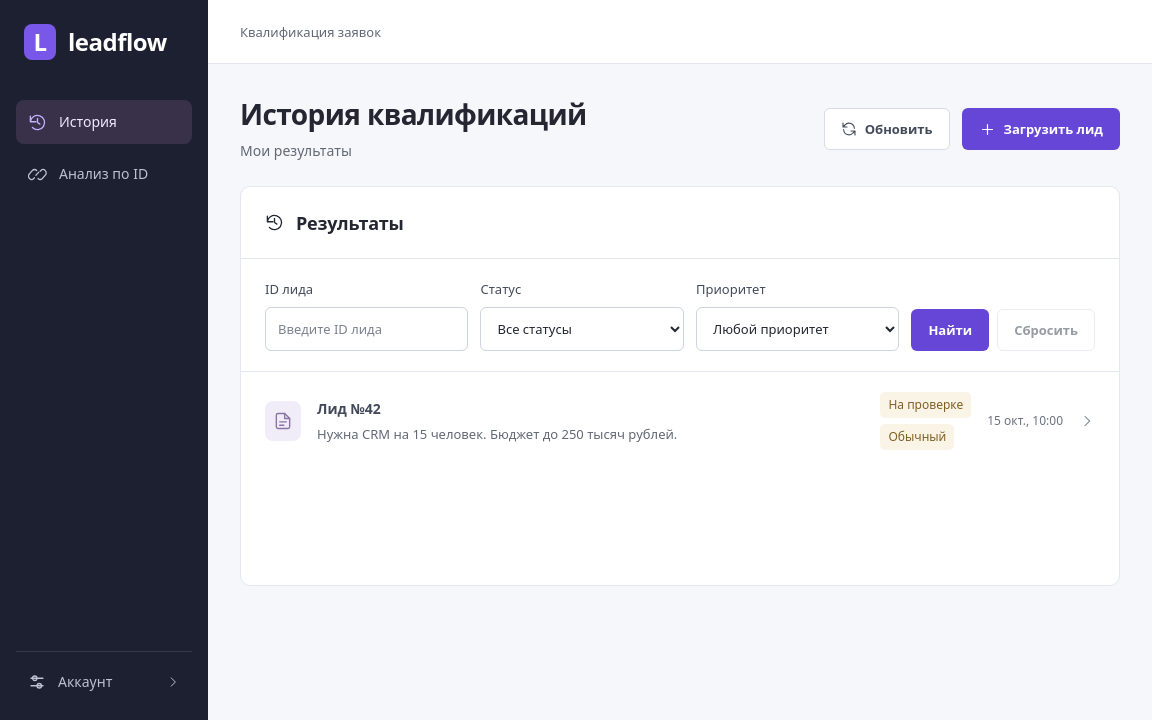
it: qualification interface › starts with saved results and returns home from the ID form
Expected: the heading "История квалификаций" is shown, [240, 96, 587, 132]
Expected: the button that starts with "Лид №42" is shown, [241, 372, 1119, 470]
Click the button "Загрузить лид". click: (1041, 129)
box: [962, 108, 1120, 150]
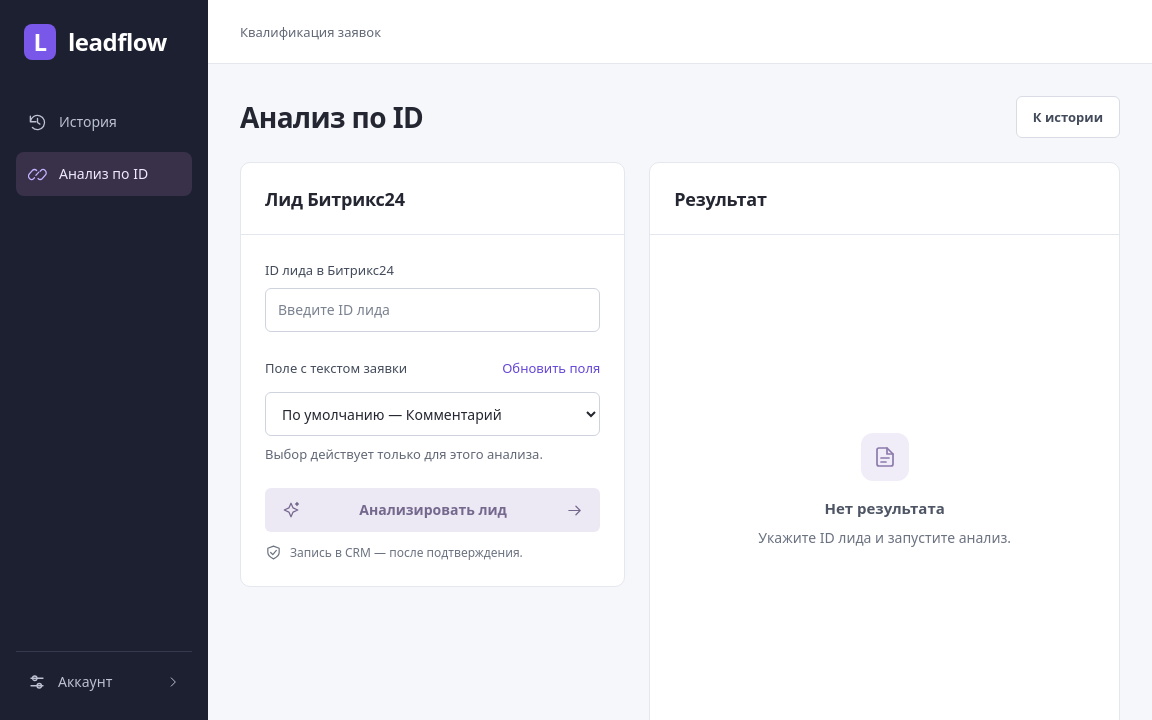
Expected: the heading "Анализ по ID" is shown, [240, 99, 423, 135]
Expected: the field labelled "ID лида в Битрикс24" is shown, [265, 288, 600, 332]
Click the button "К истории". click: (1068, 117)
box: [1016, 96, 1120, 138]
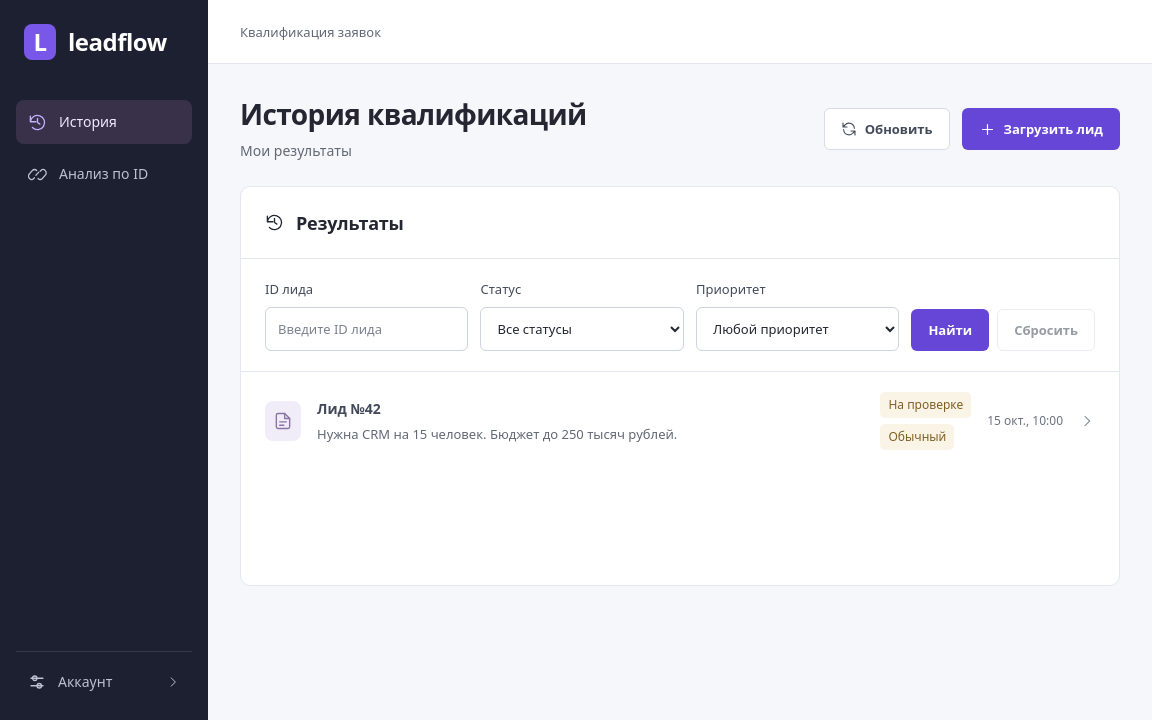
Expected: the heading "История квалификаций" is shown, [240, 96, 587, 132]
Expected: the button that starts with "Лид №42" is shown, [241, 372, 1119, 470]
